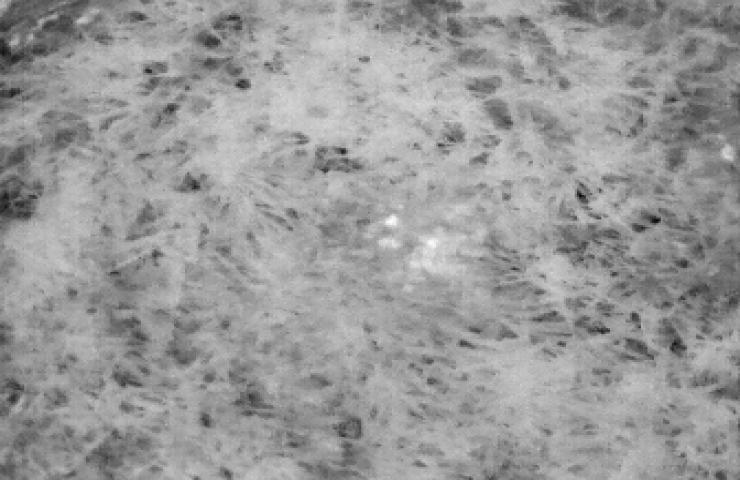landmines: (370, 207, 472, 271)
